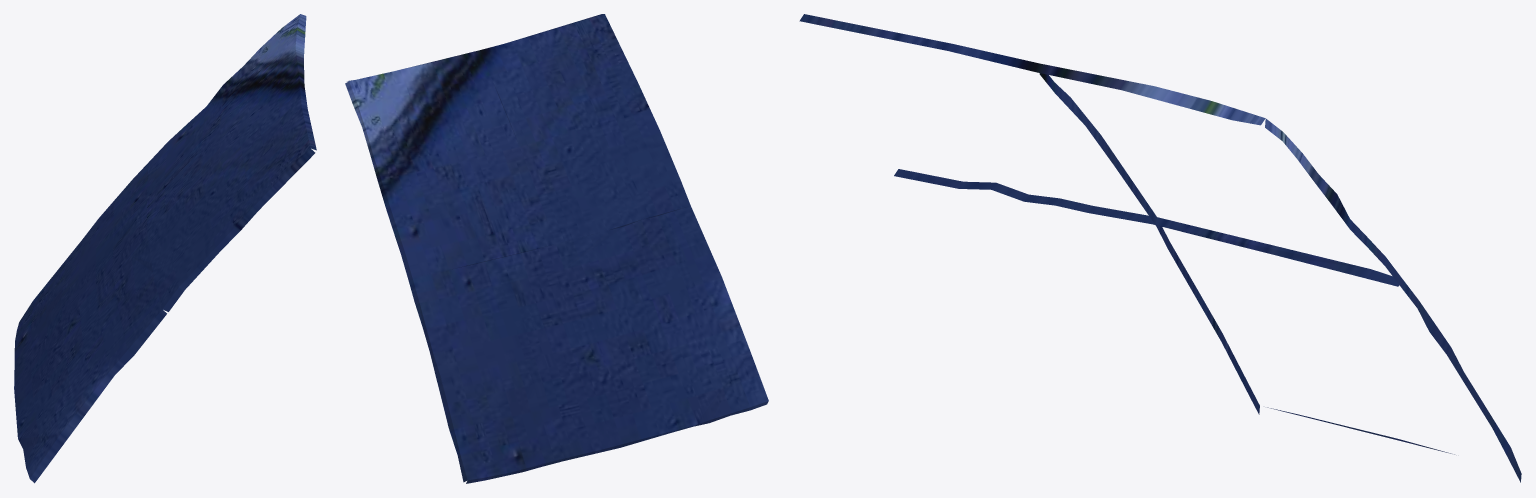
3 renders of one model, left to right at view 1: azimuth 30°, elevation 25°; view 2: azimuth 150°, elevation 25°; view 3: azimuth 270°, elevation 25°, orthographic. The views are drawn at different scales.
Size of the model in its own units: 1164795 by 990316 by 1228944.
1 material, 1 textured.
